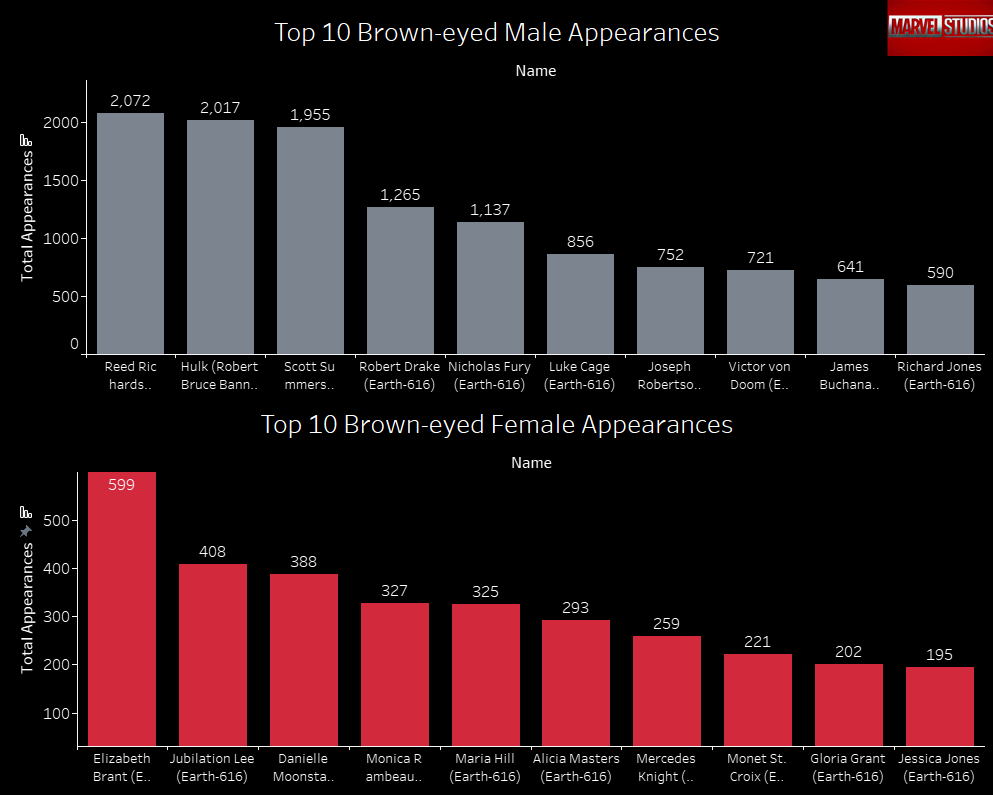

This screenshot's page, from the dashboard's own definition file:
{"tool":"tableau","page":{"name":"Top Appearances","canvas":[1000,800],"ordinal":3},"visuals":[{"type":"image","param":"Image/marvel-studios-logo.png","box":[890,1,110,58]},{"type":"worksheet","title":"Top 10 Male Appearances","mark":"Automatic","rows":["APPEARANCES"],"cols":["name"],"box":[8,8,984,392]},{"type":"worksheet","title":"Top 10 Female Appearances","mark":"Automatic","rows":["APPEARANCES"],"cols":["name"],"box":[8,400,984,392]}]}

Visuals, with their boxes in screenshot pixels (x1, y1, x2, y2), scaled from the page's 1000x800 canvas onto the 993x795 screenshot:
image: (left=884, top=1, right=992, bottom=59)
"Top 10 Male Appearances" worksheet: (left=8, top=8, right=985, bottom=398)
"Top 10 Female Appearances" worksheet: (left=8, top=398, right=985, bottom=787)
